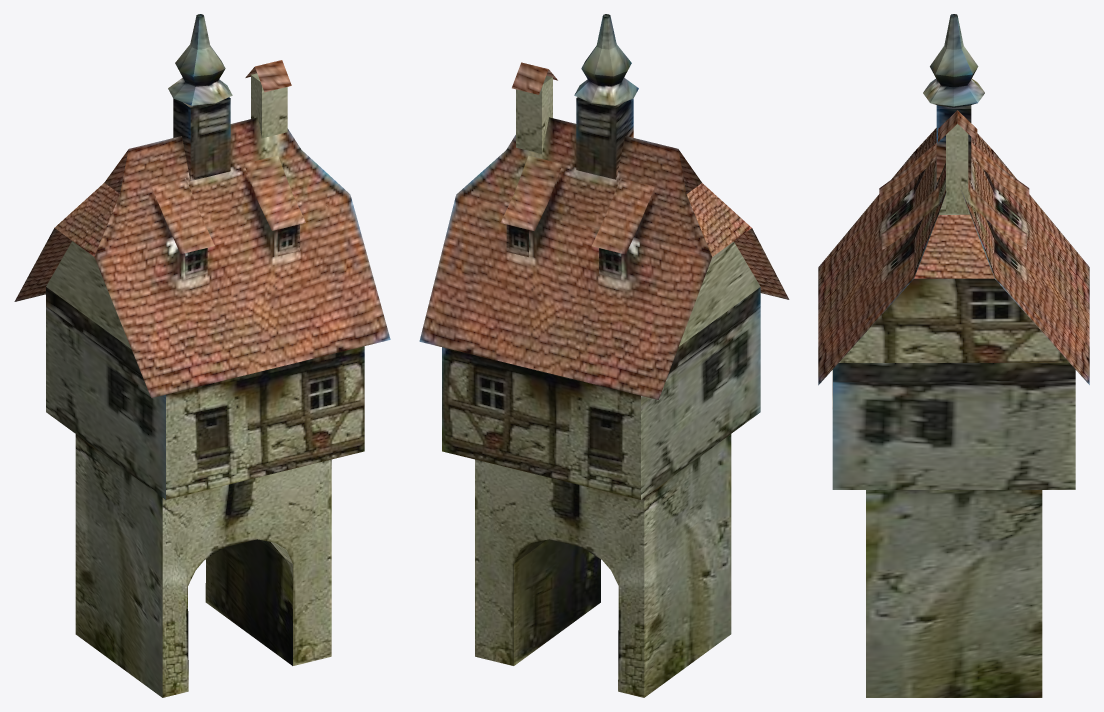
3 views of the same model, side by side, from view 1: azimuth 30°, elevation 25°; view 2: azimuth 150°, elevation 25°; view 3: azimuth 270°, elevation 25° (orthographic).
Parts seen in each view (by area): view 1: t3; view 2: t3; view 3: t3.
Part boxes in pixels (x1,y1,x2,y2): t3: [14, 14, 390, 697]; t3: [419, 14, 789, 697]; t3: [818, 14, 1089, 697].
Size of the model in its own units: 1.9 by 4.48 by 1.72.
1 material, 1 textured.
